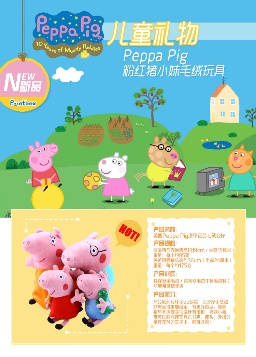Peppa: (35, 264, 82, 331), (23, 140, 62, 188)
